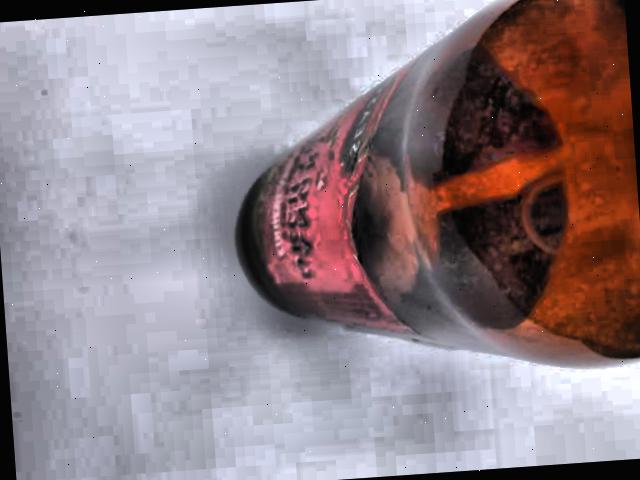Bottles: (202, 0, 640, 409)
